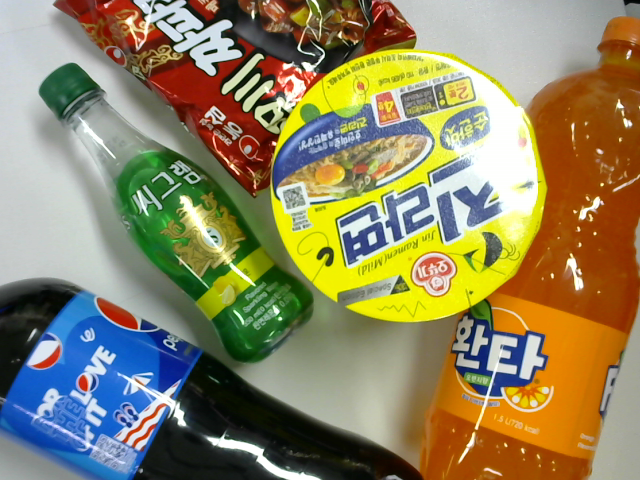Hwanta_Orange_1.5L: (442, 18, 632, 480)
Jinlamyeon_Mild_Taste_Large_Cup: (279, 56, 544, 299)
Pepsi_Cola_1.5L: (12, 287, 448, 480)
Seagram_Lemon_Carbonated_Water: (36, 50, 324, 359)
Sichuan_Chapaghetti: (64, 1, 415, 152)
